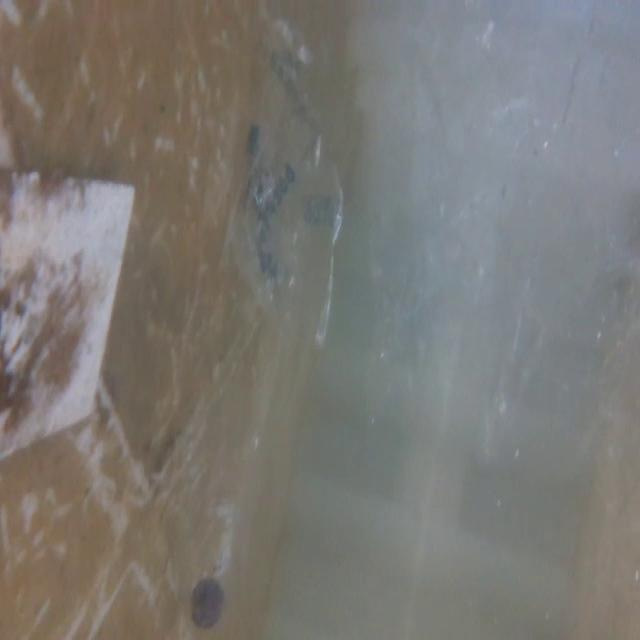plastic bags: (227, 36, 347, 351)
